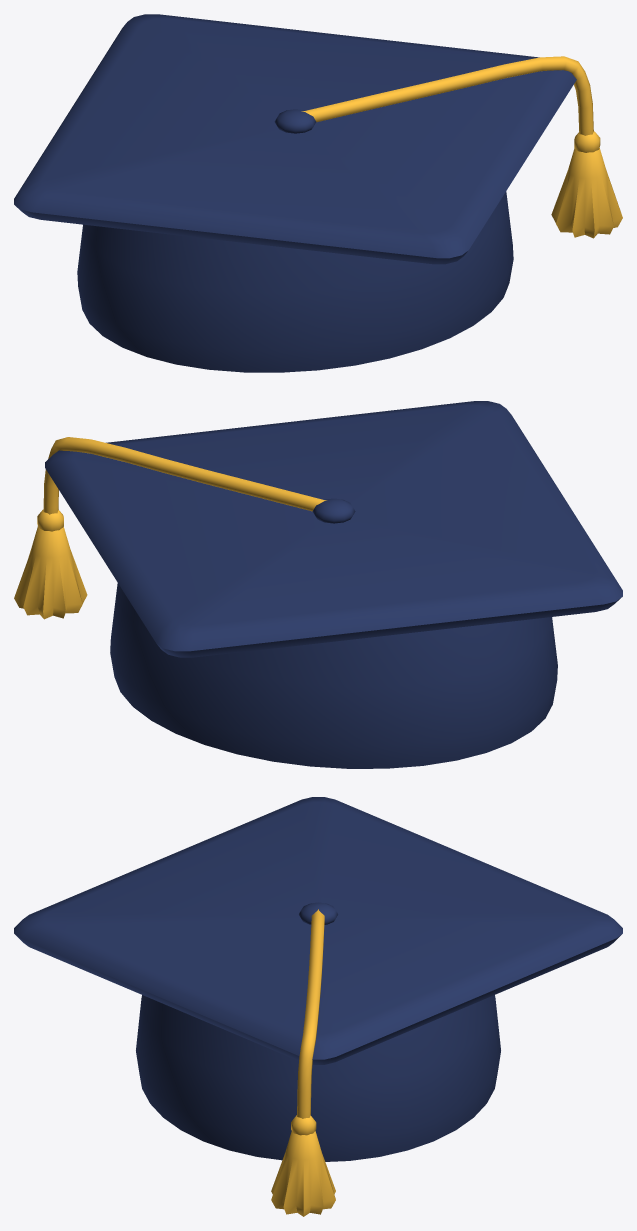
File: graduation.glb
The picture shows the model from 3 angles, top to bottom: view 1: azimuth 30°, elevation 25°; view 2: azimuth 150°, elevation 25°; view 3: azimuth 270°, elevation 25°; orthographic projection. The views are drawn at different scales.
Parts seen in each view (by area): view 1: graduation; view 2: graduation; view 3: graduation.
Part boxes in pixels (x1,y1,x2,y2): graduation: [14, 14, 622, 372]; graduation: [14, 401, 622, 768]; graduation: [14, 797, 622, 1216].
Size of the model in its own units: 0.7857 by 0.224 by 0.7368.
